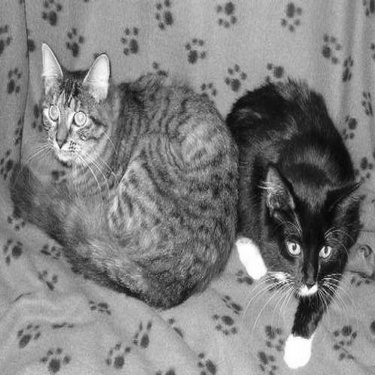cat: (14, 35, 241, 313), (223, 80, 358, 369)
